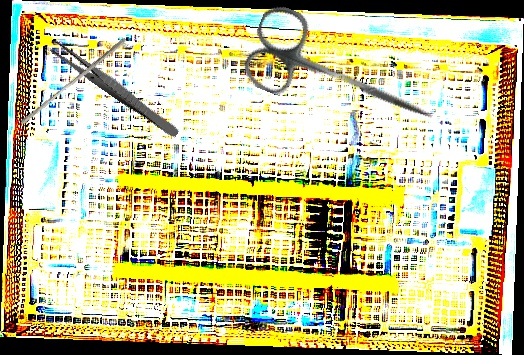Dressing Forceps: (48, 38, 183, 140)
Iris Scissors: (237, 0, 450, 153)
Pusher: (20, 33, 127, 129)
